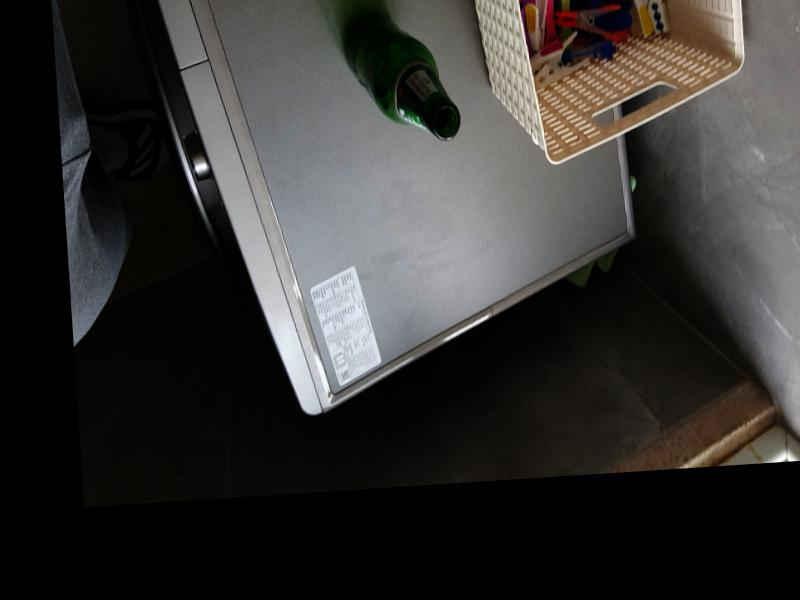Beer: (340, 7, 459, 147)
